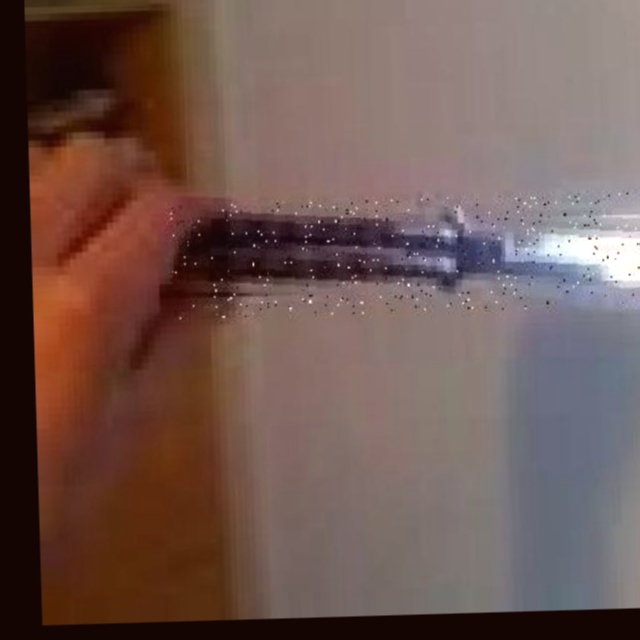Sharp-Object: (170, 190, 640, 319)
